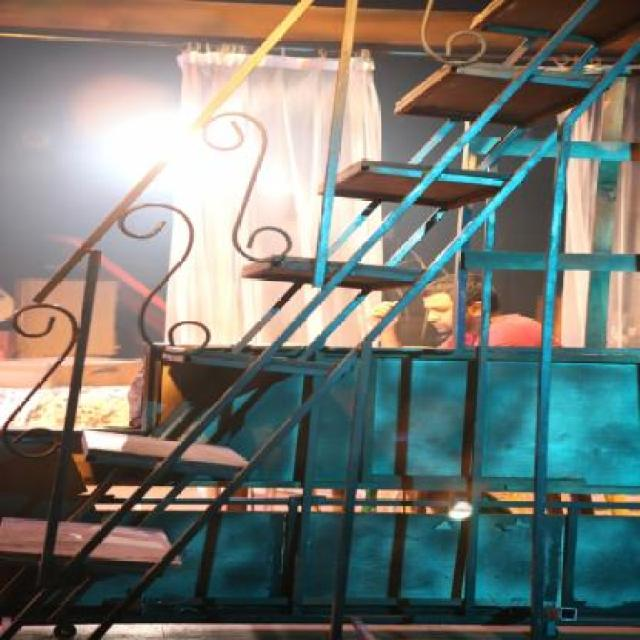stair: (0, 0, 638, 574)
